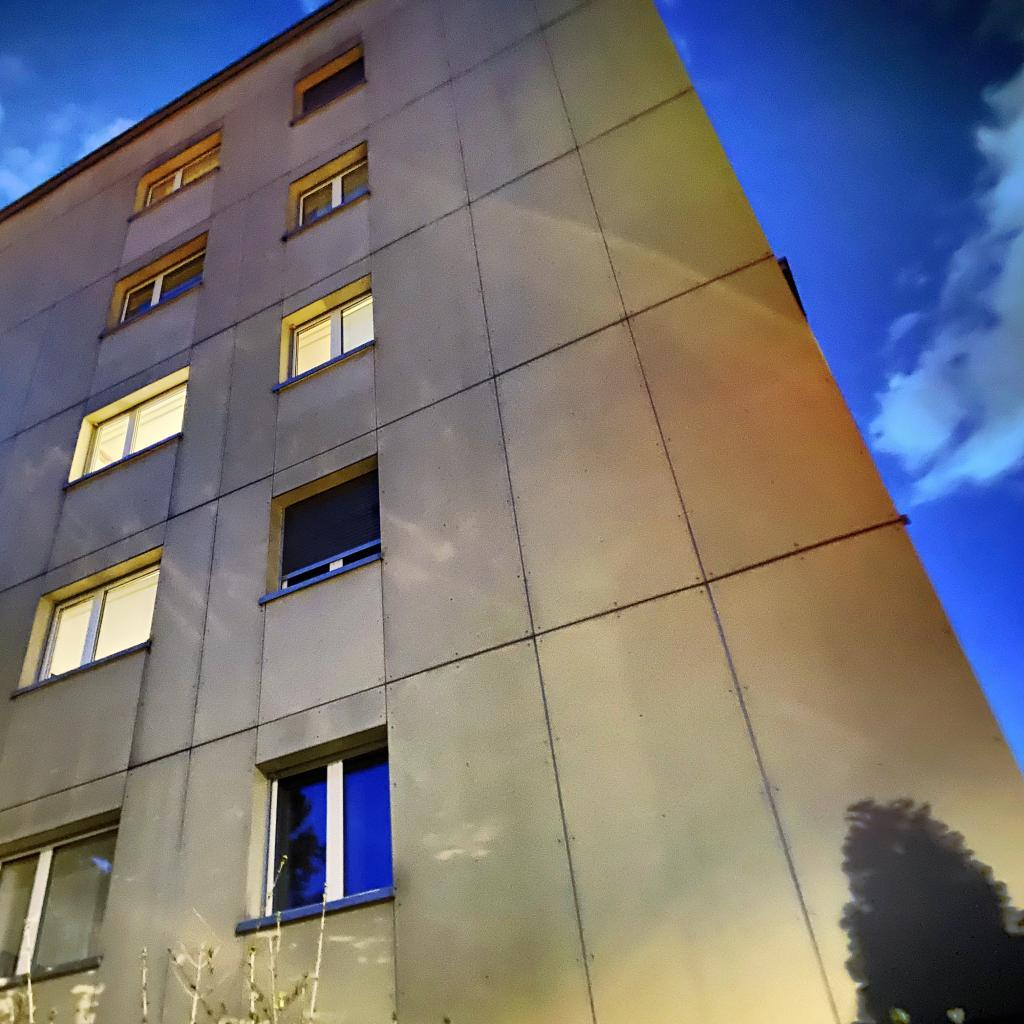facade: (0, 0, 1024, 1024)
vegetation: (838, 792, 1024, 1023), (103, 855, 329, 1024), (0, 974, 107, 1024)
window: (264, 740, 392, 916), (0, 823, 120, 980), (38, 561, 160, 681), (277, 468, 381, 588), (84, 380, 187, 475), (290, 288, 373, 378), (120, 248, 206, 323), (143, 141, 221, 209), (298, 157, 367, 227), (301, 54, 365, 117)
